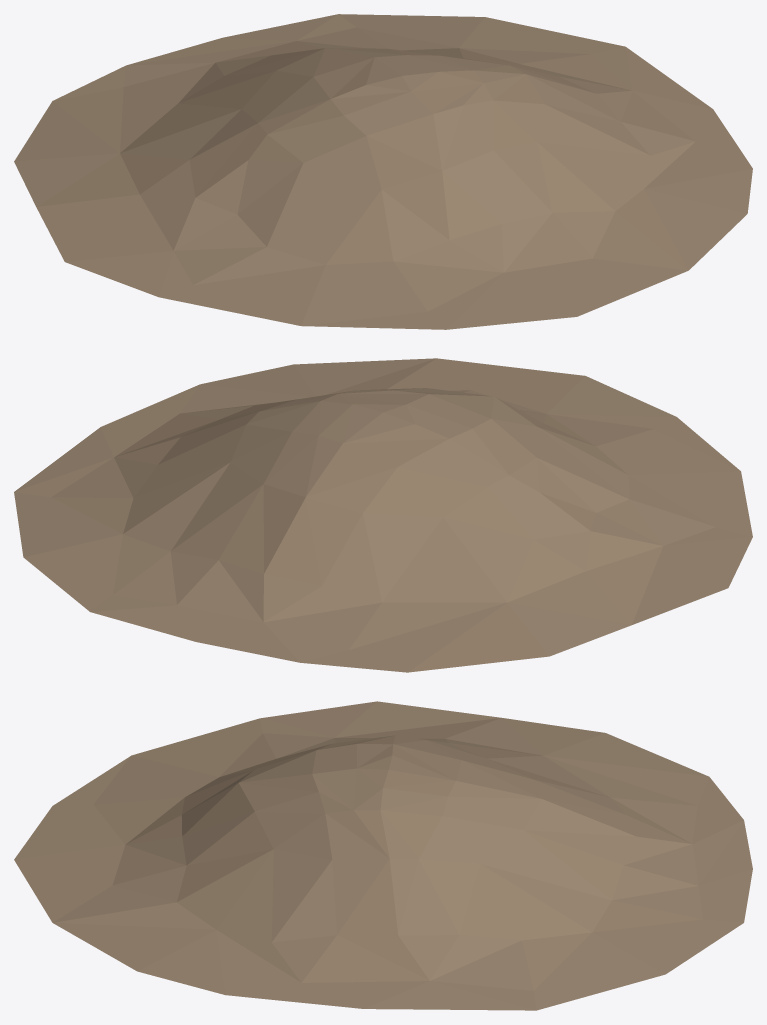
The model's file is SM_Env_Ground_Hill_01.fbx.
3 renders of one model, top to bottom at view 1: azimuth 30°, elevation 25°; view 2: azimuth 150°, elevation 25°; view 3: azimuth 270°, elevation 25°, orthographic.
Visible parts, largest first — view 1: SM_Env_Ground_Hill_01; view 2: SM_Env_Ground_Hill_01; view 3: SM_Env_Ground_Hill_01.
Part boxes in pixels (x1,y1,x2,y2): SM_Env_Ground_Hill_01: (14, 14, 752, 329); SM_Env_Ground_Hill_01: (14, 358, 752, 672); SM_Env_Ground_Hill_01: (14, 701, 752, 1010).
Bounding box in the file's own units: 1107 × 162 × 1119.
